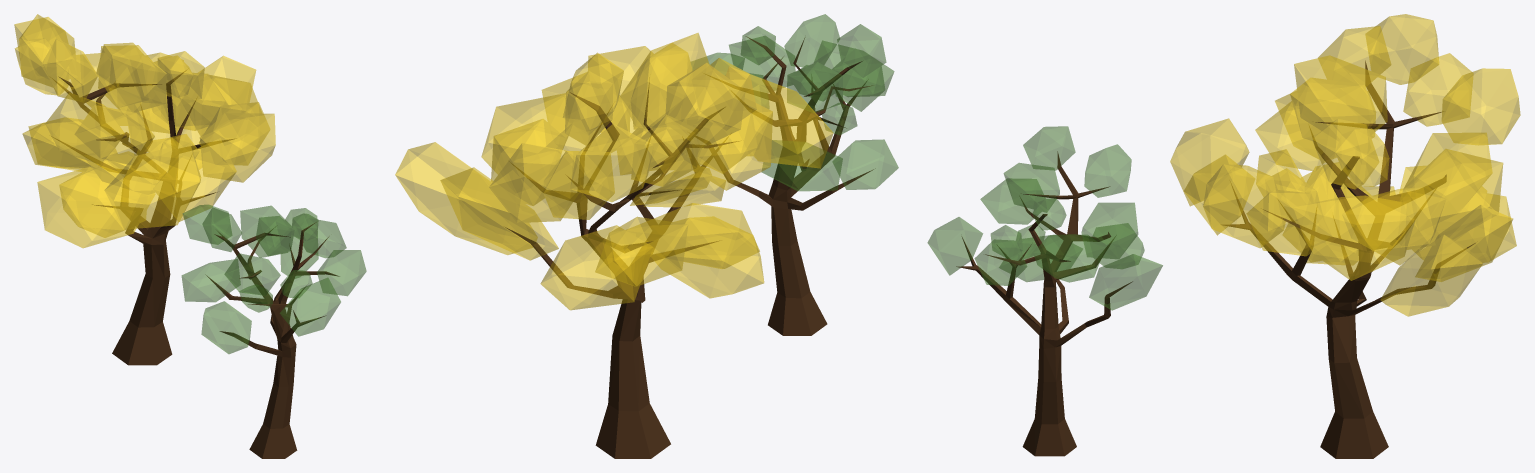
File: Hackrush trees.fbx
3 renders of one model, left to right at view 1: azimuth 30°, elevation 25°; view 2: azimuth 150°, elevation 25°; view 3: azimuth 270°, elevation 25°, orthographic. The views are drawn at different scales.
Visible parts, largest first — view 1: Tree00.001, Tree00; view 2: Tree00.001, Tree00; view 3: Tree00.001, Tree00.
Part boxes in pixels (x1=…): Tree00.001: x1=14, y1=14, x2=275, y2=365; Tree00: x1=181, y1=204, x2=366, y2=458; Tree00.001: x1=395, y1=33, x2=833, y2=458; Tree00: x1=691, y1=14, x2=898, y2=335; Tree00.001: x1=1170, y1=14, x2=1520, y2=458; Tree00: x1=927, y1=126, x2=1162, y2=456.
Size of the model in its own units: 662 by 845 by 1168.
